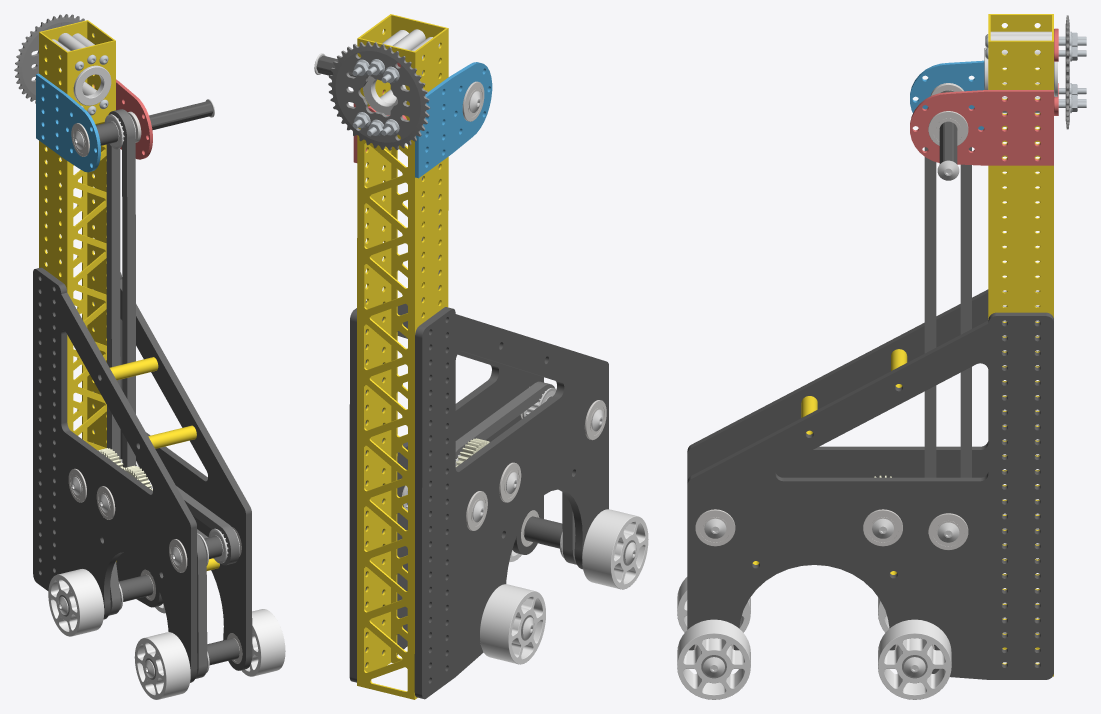
3 renders of one model, left to right at view 1: azimuth 30°, elevation 25°; view 2: azimuth 150°, elevation 25°; view 3: azimuth 270°, elevation 25°, orthographic. The views are drawn at different scales.
Parts seen in each view (by area): view 1: B2202 - Main mount plate.001, B2201 - Wrist Bar, B2202 - Main mount plate, 155t 5mm Belt, B2205 - Motor mount plate, am-3950 2.25N OverMolded 375Hex Compliant Wheel V6.006, am-3950 2.25N OverMolded 375Hex Compliant Wheel V6, am-3950 2.25N OverMolded 375Hex Compliant Wheel V6.002, 42t Aluminum Plate Sprocket (#25 Chain, SplineXL Bore), 60t 5mm Belt, B2205 - Motor mount plate.001, 70t 5mm Belt (+7 smaller); view 2: B2202 - Main mount plate.001, B2201 - Wrist Bar, B2202 - Main mount plate, 42t Aluminum Plate Sprocket (#25 Chain, SplineXL Bore), B2205 - Motor mount plate, am-3950 2.25N OverMolded 375Hex Compliant Wheel V6, am-3950 2.25N OverMolded 375Hex Compliant Wheel V6.006, 70t 5mm Belt, 60t 5mm Belt, 1 in spacer.002, Part 1.001; view 3: B2202 - Main mount plate, B2201 - Wrist Bar, B2202 - Main mount plate.001, B2205 - Motor mount plate.001, 155t 5mm Belt, am-3950 2.25N OverMolded 375Hex Compliant Wheel V6.002, am-3950 2.25N OverMolded 375Hex Compliant Wheel V6.004, B2205 - Motor mount plate, Thunderhex ID 1.125 OD Flanged Bearing (217-4006).002, Thunderhex ID 1.125 OD Flanged Bearing (217-4006).008, Thunderhex ID 1.125 OD Flanged Bearing (217-4006), Thunderhex ID 1.125 OD Flanged Bearing (217-4006).006 (+2 smaller).
Boxes of the visible parts, <box> form: B2202 - Main mount plate.001: <box>33,267,197,682</box>; B2201 - Wrist Bar: <box>39,20,116,561</box>; B2202 - Main mount plate: <box>93,272,252,670</box>; 155t 5mm Belt: <box>106,109,135,467</box>; B2205 - Motor mount plate: <box>36,73,100,172</box>; am-3950 2.25N OverMolded 375Hex Compliant Wheel V6.006: <box>48,569,104,636</box>; am-3950 2.25N OverMolded 375Hex Compliant Wheel V6: <box>134,632,190,699</box>; am-3950 2.25N OverMolded 375Hex Compliant Wheel V6.002: <box>241,609,285,676</box>; 42t Aluminum Plate Sprocket (#25 Chain, SplineXL Bore): <box>14,14,94,103</box>; 60t 5mm Belt: <box>195,533,207,678</box>; B2205 - Motor mount plate.001: <box>93,79,152,159</box>; 70t 5mm Belt: <box>144,472,239,565</box>; B2202 - Main mount plate.001: <box>414,307,608,699</box>; B2201 - Wrist Bar: <box>357,14,448,699</box>; B2202 - Main mount plate: <box>349,301,543,682</box>; 42t Aluminum Plate Sprocket (#25 Chain, SplineXL Bore): <box>328,41,430,150</box>; B2205 - Motor mount plate: <box>415,62,492,178</box>; am-3950 2.25N OverMolded 375Hex Compliant Wheel V6: <box>582,509,648,589</box>; am-3950 2.25N OverMolded 375Hex Compliant Wheel V6.006: <box>480,584,545,664</box>; 70t 5mm Belt: <box>455,381,554,458</box>; 60t 5mm Belt: <box>562,492,576,564</box>; 1 in spacer.002: <box>524,516,561,547</box>; Part 1.001: <box>363,76,406,115</box>; B2202 - Main mount plate: <box>687,312,1053,679</box>; B2201 - Wrist Bar: <box>988,14,1053,676</box>; B2202 - Main mount plate.001: <box>687,289,1039,633</box>; B2205 - Motor mount plate.001: <box>910,90,1053,165</box>; 155t 5mm Belt: <box>924,107,971,477</box>; am-3950 2.25N OverMolded 375Hex Compliant Wheel V6.002: <box>677,619,750,699</box>; am-3950 2.25N OverMolded 375Hex Compliant Wheel V6.004: <box>878,619,951,699</box>; B2205 - Motor mount plate: <box>910,60,984,130</box>; Thunderhex ID 1.125 OD Flanged Bearing (217-4006).002: <box>695,509,735,546</box>; Thunderhex ID 1.125 OD Flanged Bearing (217-4006).008: <box>863,509,902,546</box>; Thunderhex ID 1.125 OD Flanged Bearing (217-4006): <box>928,513,968,550</box>; Thunderhex ID 1.125 OD Flanged Bearing (217-4006).006: <box>928,111,968,145</box>.
Size of the model in its own units: 0.1735 by 0.5521 by 0.3175.
